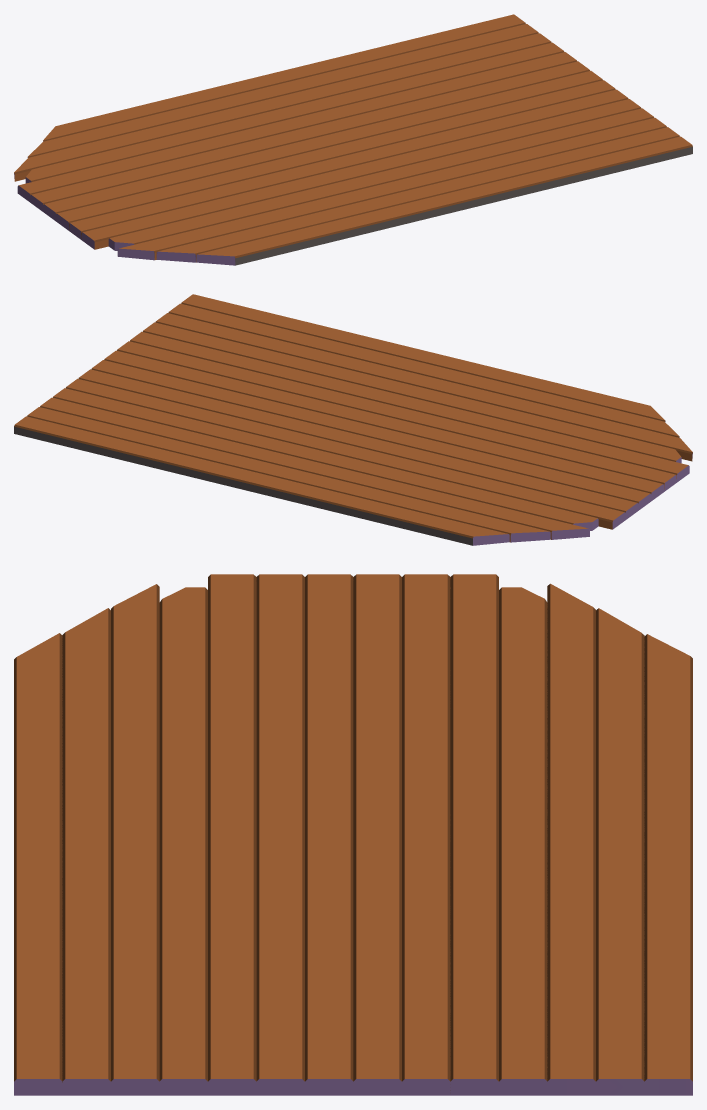
The model's file is kitchen floor.fbx.
3 renders of one model, top to bottom at view 1: azimuth 30°, elevation 25°; view 2: azimuth 150°, elevation 25°; view 3: azimuth 270°, elevation 25°, orthographic. The views are drawn at different scales.
Parts seen in each view (by area): view 1: kitchen floor; view 2: kitchen floor; view 3: kitchen floor.
Boxes of the visible parts, left/top/right/bottom form: kitchen floor: left=14, top=14, right=692, bottom=265; kitchen floor: left=14, top=294, right=692, bottom=545; kitchen floor: left=14, top=574, right=692, bottom=1095.
Bounding box in the file's own units: 985 × 15 × 560.
